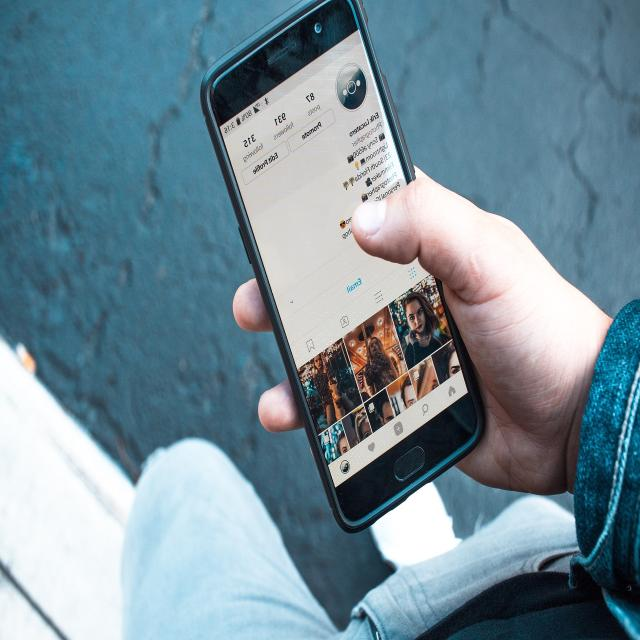Mobile: (186, 0, 491, 537)
